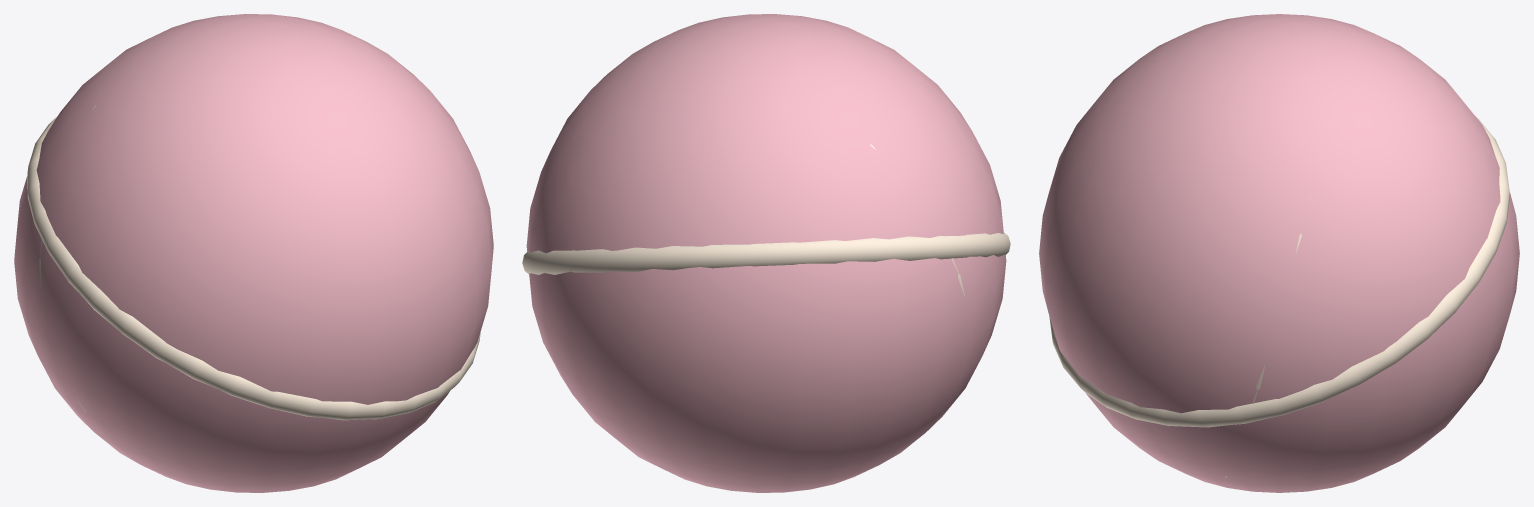
File: yarn.glb
3 views of the same model, side by side, from view 1: azimuth 30°, elevation 25°; view 2: azimuth 150°, elevation 25°; view 3: azimuth 270°, elevation 25° (orthographic).
Parts seen in each view (by area): view 1: Yarn; view 2: Yarn; view 3: Yarn.
Part boxes in pixels (x1=…): Yarn: x1=14, y1=14, x2=493, y2=492; Yarn: x1=522, y1=14, x2=1010, y2=492; Yarn: x1=1039, y1=14, x2=1519, y2=492.
Bounding box in the file's own units: 0.44 × 0.44 × 0.44.
